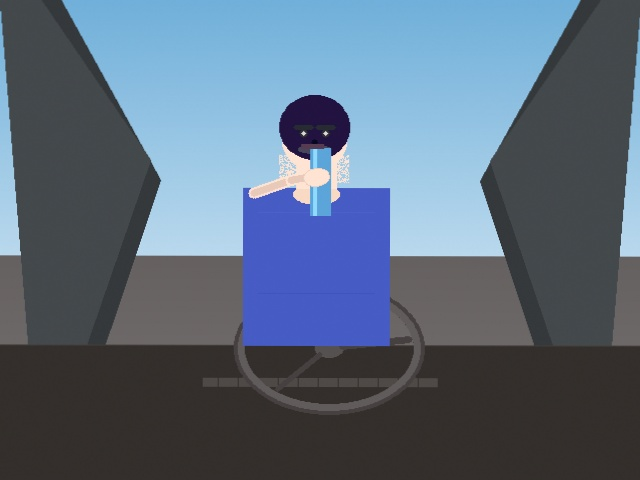drinking: (292, 134, 340, 225)
